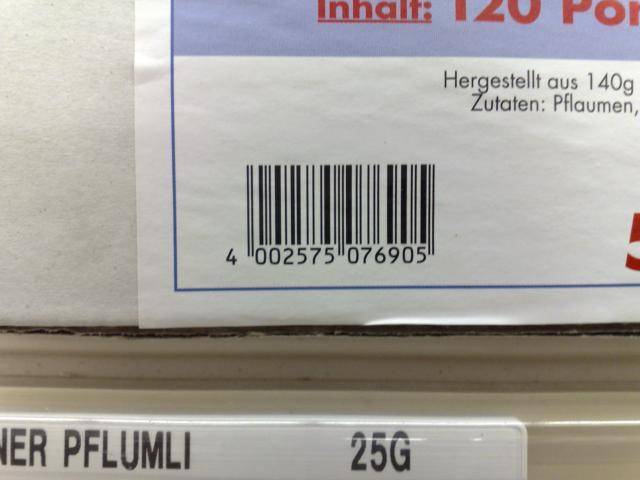Barcode: (222, 157, 441, 273)
